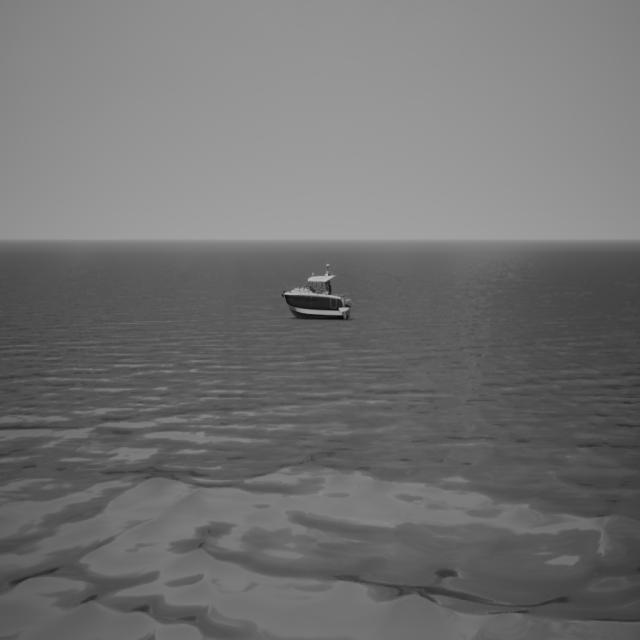ship: (281, 261, 353, 319)
